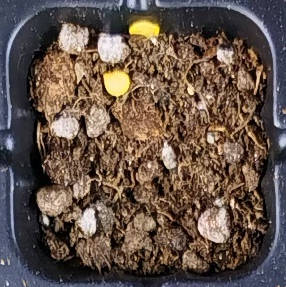pepper seed: (36, 20, 167, 118), (47, 0, 208, 38)
